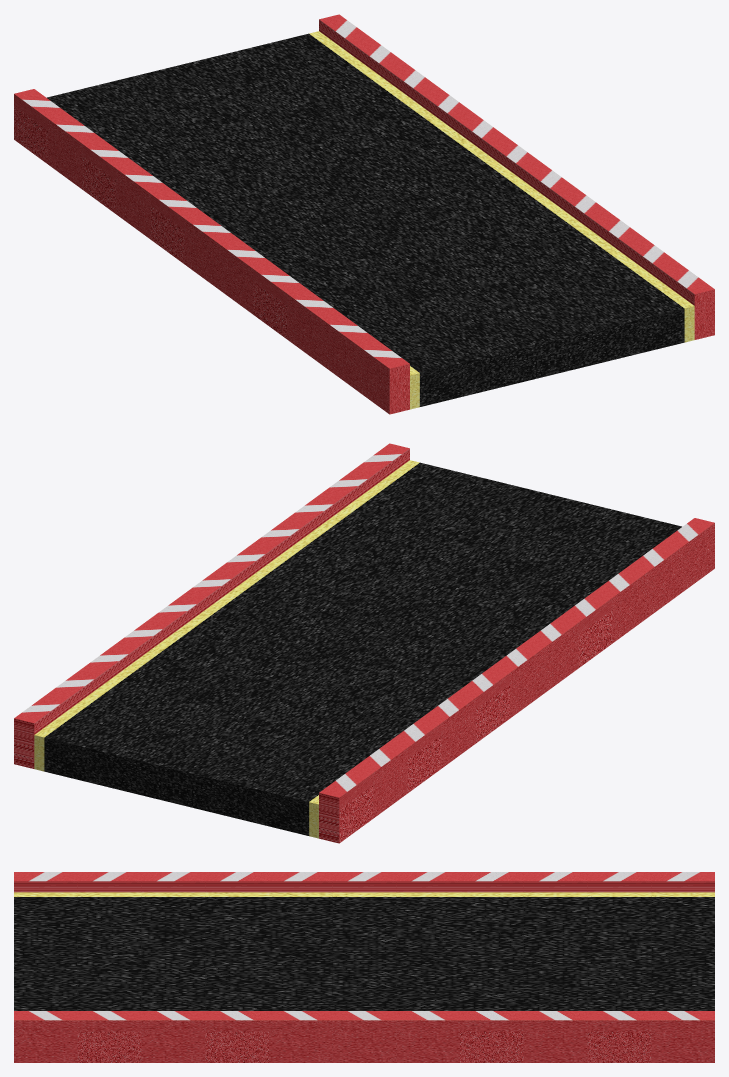
Rendered from Track - Straight.fbx.
The picture shows the model from 3 angles, top to bottom: view 1: azimuth 30°, elevation 25°; view 2: azimuth 150°, elevation 25°; view 3: azimuth 270°, elevation 25°; orthographic projection. The views are drawn at different scales.
Visible parts, largest first — view 1: Track - Straight piece; view 2: Track - Straight piece; view 3: Track - Straight piece.
Boxes of the visible parts, x1,y1,x2,y2 form: Track - Straight piece: (14,14,714,414); Track - Straight piece: (14,443,714,843); Track - Straight piece: (14,872,714,1062).
Bounding box in the file's own units: 50 × 6.73 × 100.
